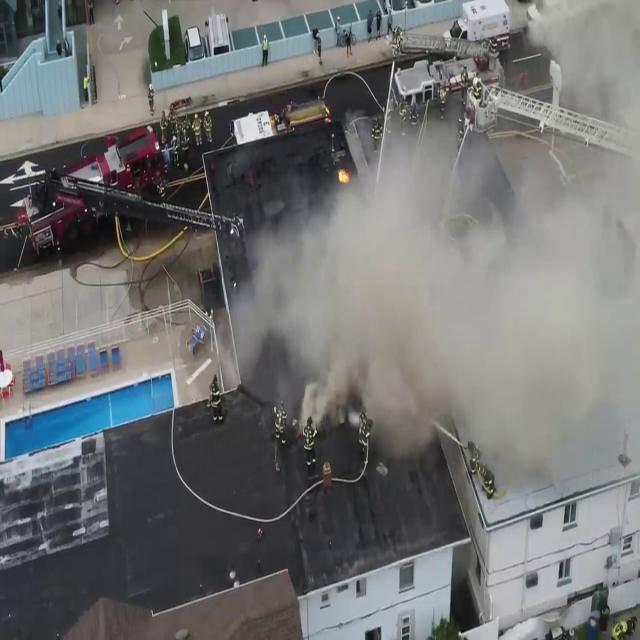Smoke: (229, 106, 640, 468)
